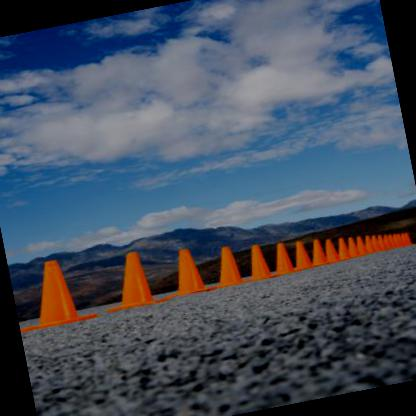cone: (8, 252, 98, 334), (96, 246, 162, 313), (154, 244, 212, 298), (206, 242, 248, 286), (242, 240, 276, 282), (266, 238, 294, 275)
